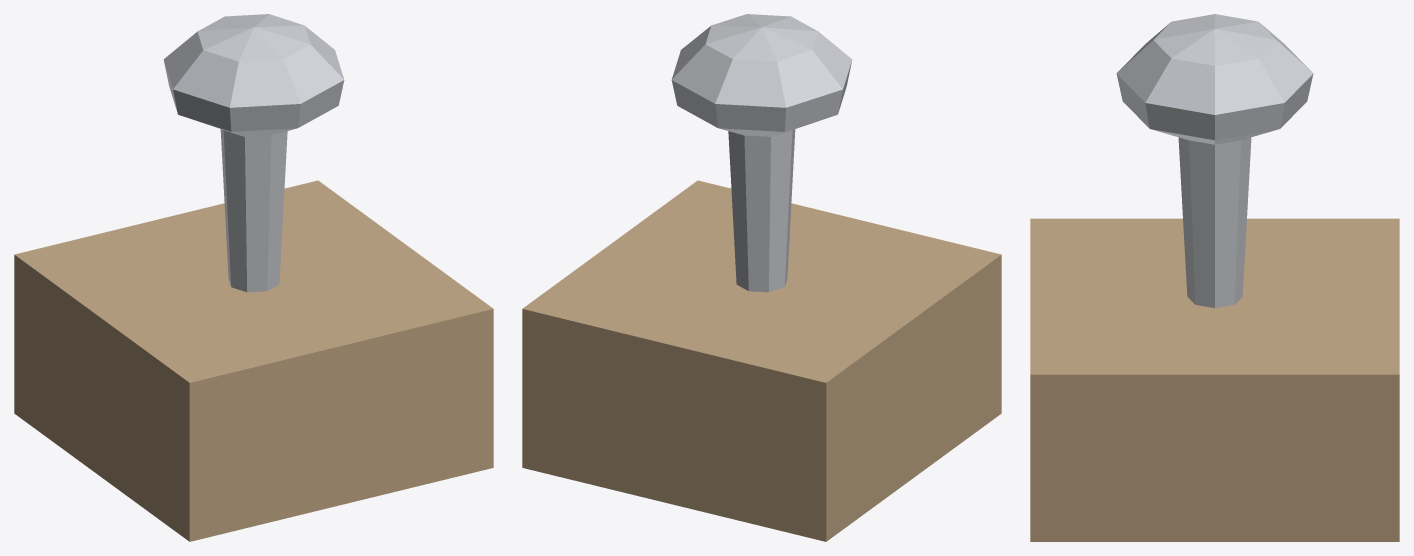
Rendered from prop-thimble-stake.fbx.
The picture shows the model from 3 angles, left to right: view 1: azimuth 30°, elevation 25°; view 2: azimuth 150°, elevation 25°; view 3: azimuth 270°, elevation 25°; orthographic projection. The views are drawn at different scales.
Visible parts, largest first — view 1: prop-thimble-stake; view 2: prop-thimble-stake; view 3: prop-thimble-stake.
Boxes of the visible parts, x1,y1,x2,y2 form: prop-thimble-stake: (14, 14, 493, 541); prop-thimble-stake: (522, 14, 1001, 541); prop-thimble-stake: (1030, 14, 1399, 541).
Bounding box in the file's own units: 12 × 15.6 × 12.
